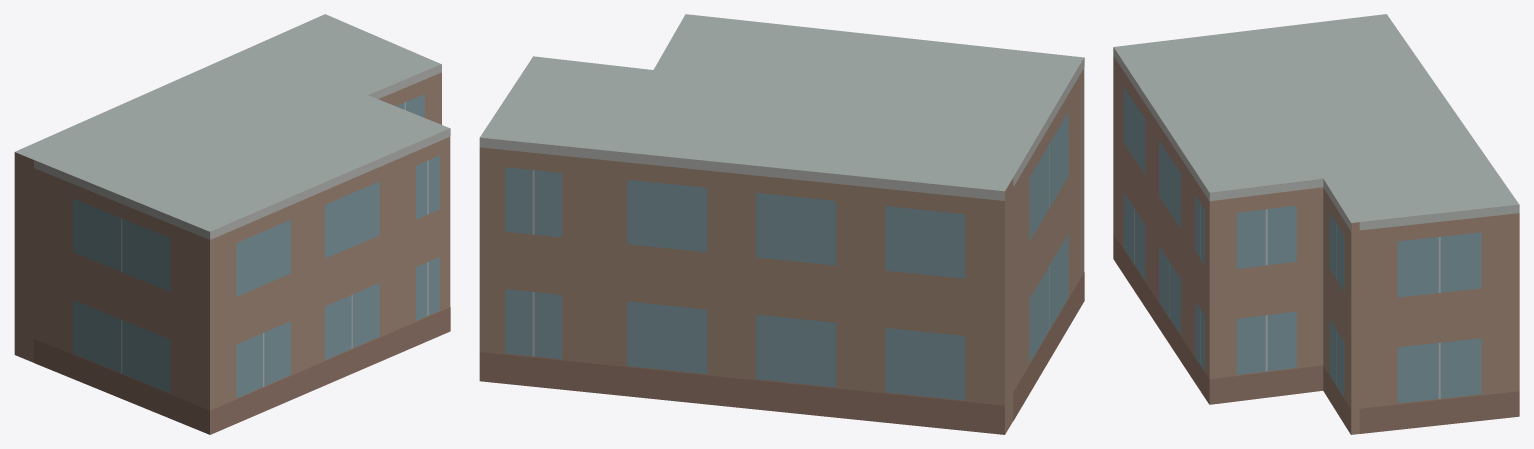
The model's file is survey-upis-32735685.glb.
3 renders of one model, left to right at view 1: azimuth 30°, elevation 25°; view 2: azimuth 150°, elevation 25°; view 3: azimuth 270°, elevation 25°, orthographic. The views are drawn at different scales.
Parts seen in each view (by area): view 1: survey-upis-32735685.tmp; view 2: survey-upis-32735685.tmp; view 3: survey-upis-32735685.tmp.
Part boxes in pixels (<box>): survey-upis-32735685.tmp: <box>14,14,450,434</box>; survey-upis-32735685.tmp: <box>479,14,1084,434</box>; survey-upis-32735685.tmp: <box>1113,14,1519,434</box>.
Size of the model in its own units: 12.91 by 6.1 by 10.6.
